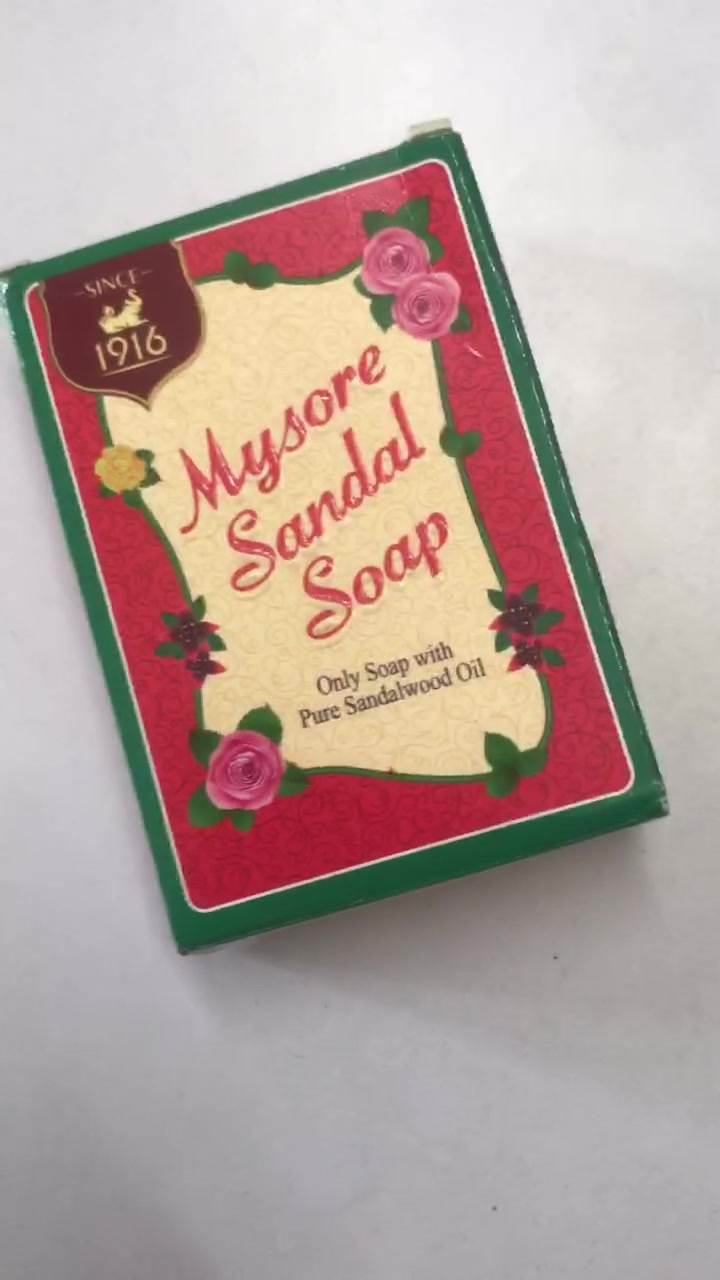mysore sandal soap: (1, 143, 664, 957)
